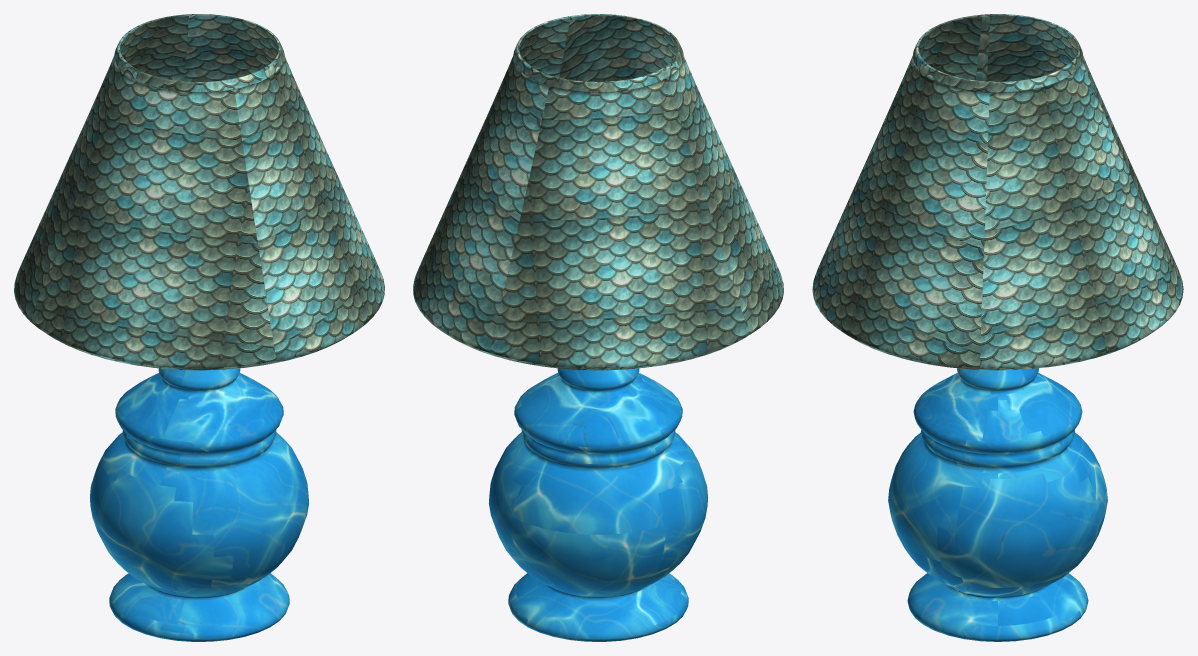
The model's file is Lamp.fbx.
The picture shows the model from 3 angles, left to right: view 1: azimuth 30°, elevation 25°; view 2: azimuth 150°, elevation 25°; view 3: azimuth 270°, elevation 25°; orthographic projection.
Visible parts, largest first — view 1: Lamp, Support; view 2: Lamp, Support; view 3: Lamp, Support.
Part boxes in pixels (bbox=[...]): Lamp: bbox=[14, 14, 384, 370]; Support: bbox=[90, 368, 308, 641]; Lamp: bbox=[413, 14, 783, 370]; Support: bbox=[489, 368, 707, 641]; Lamp: bbox=[812, 14, 1183, 370]; Support: bbox=[888, 368, 1107, 641].
Bounding box in the file's own units: 44.19 × 73.43 × 44.19.
2 materials, 2 textured.
